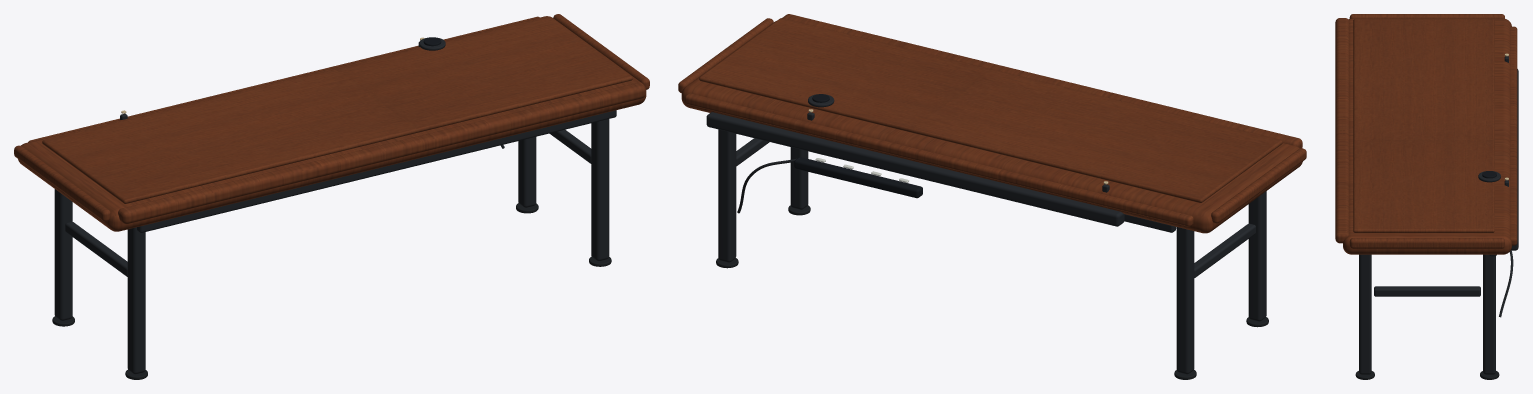
File: p2s_commercial_desk_hero_v1.glb
3 renders of one model, left to right at view 1: azimuth 30°, elevation 25°; view 2: azimuth 150°, elevation 25°; view 3: azimuth 270°, elevation 25°, orthographic. The views are drawn at different scales.
Visible parts, largest first — view 1: commercial_desk_thin_clearcoat_top_surface_authored_uv, commercial_desk_rounded_front_bullnose_band, commercial_desk_oiled_walnut_core_slab, commercial_desk_under_top_front_apron, commercial_desk_square_tapered_steel_leg_-1.32_0.36, commercial_desk_square_tapered_steel_leg_1.32_0.36, commercial_desk_square_tapered_steel_leg_-1.32_-0.36, commercial_desk_left_continuous_walnut_side_band, commercial_desk_square_tapered_steel_leg_1.32_-0.36, commercial_desk_rear_shadow_end_band, commercial_desk_left_side_cross_rail, commercial_desk_right_continuous_walnut_side_band (+1 smaller); view 2: commercial_desk_thin_clearcoat_top_surface_authored_uv, commercial_desk_oiled_walnut_core_slab, commercial_desk_rear_integrated_cable_raceway_body, commercial_desk_rear_shadow_end_band, commercial_desk_rounded_front_bullnose_band, commercial_desk_square_tapered_steel_leg_-1.32_-0.36, commercial_desk_square_tapered_steel_leg_1.32_-0.36, commercial_desk_square_tapered_steel_leg_-1.32_0.36, commercial_desk_back_managed_power_strip, commercial_desk_left_continuous_walnut_side_band, commercial_desk_left_side_cross_rail, commercial_desk_square_tapered_steel_leg_1.32_0.36 (+1 smaller); view 3: commercial_desk_thin_clearcoat_top_surface_authored_uv, commercial_desk_oiled_walnut_core_slab, commercial_desk_rounded_front_bullnose_band, commercial_desk_rear_shadow_end_band, commercial_desk_right_continuous_walnut_side_band, commercial_desk_square_tapered_steel_leg_1.32_0.36, commercial_desk_square_tapered_steel_leg_1.32_-0.36, commercial_desk_right_side_cross_rail, commercial_desk_left_continuous_walnut_side_band, commercial_desk_rear_integrated_cable_raceway_body, commercial_desk_single_visible_power_lead.
Boxes of the visible parts, x1,y1,x2,y2 form: commercial_desk_thin_clearcoat_top_surface_authored_uv: (42, 17, 632, 203); commercial_desk_rounded_front_bullnose_band: (118, 82, 645, 224); commercial_desk_oiled_walnut_core_slab: (18, 16, 646, 231); commercial_desk_under_top_front_apron: (137, 110, 616, 232); commercial_desk_square_tapered_steel_leg_-1.32_0.36: (127, 227, 145, 374); commercial_desk_square_tapered_steel_leg_1.32_0.36: (591, 119, 609, 261); commercial_desk_square_tapered_steel_leg_-1.32_-0.36: (54, 189, 72, 320); commercial_desk_left_continuous_walnut_side_band: (14, 145, 110, 221); commercial_desk_square_tapered_steel_leg_1.32_-0.36: (518, 137, 536, 207); commercial_desk_rear_shadow_end_band: (28, 16, 539, 142); commercial_desk_left_side_cross_rail: (65, 221, 127, 276); commercial_desk_right_continuous_walnut_side_band: (553, 14, 649, 89); commercial_desk_thin_clearcoat_top_surface_authored_uv: (699, 18, 1282, 202); commercial_desk_oiled_walnut_core_slab: (681, 21, 1302, 233); commercial_desk_rear_integrated_cable_raceway_body: (706, 112, 1124, 226); commercial_desk_rear_shadow_end_band: (684, 93, 1193, 226); commercial_desk_rounded_front_bullnose_band: (782, 14, 1302, 148); commercial_desk_square_tapered_steel_leg_-1.32_-0.36: (1176, 227, 1194, 374); commercial_desk_square_tapered_steel_leg_1.32_-0.36: (718, 129, 736, 262); commercial_desk_square_tapered_steel_leg_-1.32_0.36: (1248, 191, 1266, 321); commercial_desk_back_managed_power_strip: (794, 157, 922, 198); commercial_desk_left_continuous_walnut_side_band: (1211, 148, 1306, 223); commercial_desk_left_side_cross_rail: (1194, 223, 1255, 277); commercial_desk_square_tapered_steel_leg_1.32_0.36: (790, 147, 808, 209); commercial_desk_thin_clearcoat_top_surface_authored_uv: (1353, 19, 1494, 232); commercial_desk_oiled_walnut_core_slab: (1343, 18, 1511, 254); commercial_desk_rounded_front_bullnose_band: (1335, 18, 1349, 243); commercial_desk_rear_shadow_end_band: (1510, 26, 1517, 245); commercial_desk_right_continuous_walnut_side_band: (1349, 238, 1504, 248); commercial_desk_square_tapered_steel_leg_1.32_0.36: (1359, 254, 1371, 374); commercial_desk_square_tapered_steel_leg_1.32_-0.36: (1483, 254, 1495, 374); commercial_desk_right_side_cross_rail: (1374, 286, 1480, 296); commercial_desk_left_continuous_walnut_side_band: (1349, 14, 1504, 18); commercial_desk_rear_integrated_cable_raceway_body: (1510, 69, 1518, 250); commercial_desk_single_visible_power_lead: (1499, 250, 1513, 317).
Size of the model in its own units: 3.12 by 1.04 by 1.06.
Materials: 6 (1 with a texture image).
